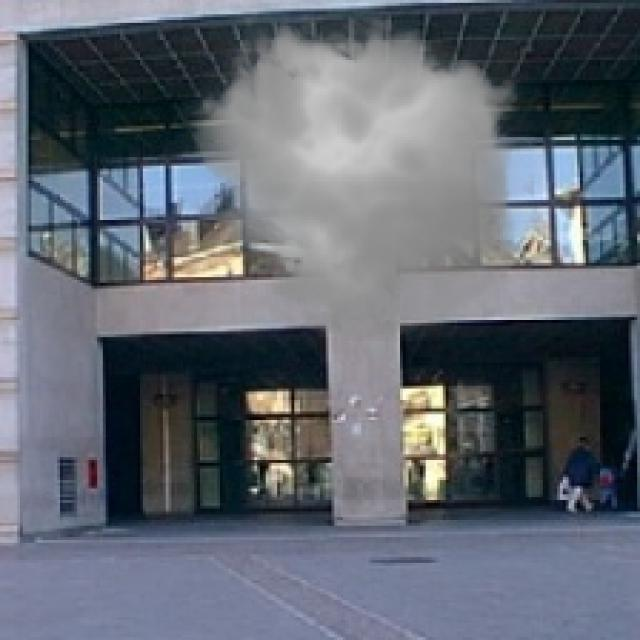smoke: (180, 3, 534, 351)
